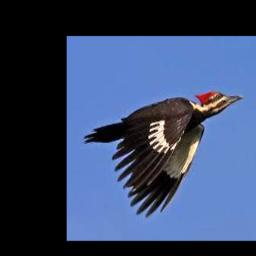Woodpecker: (83, 90, 243, 217)
